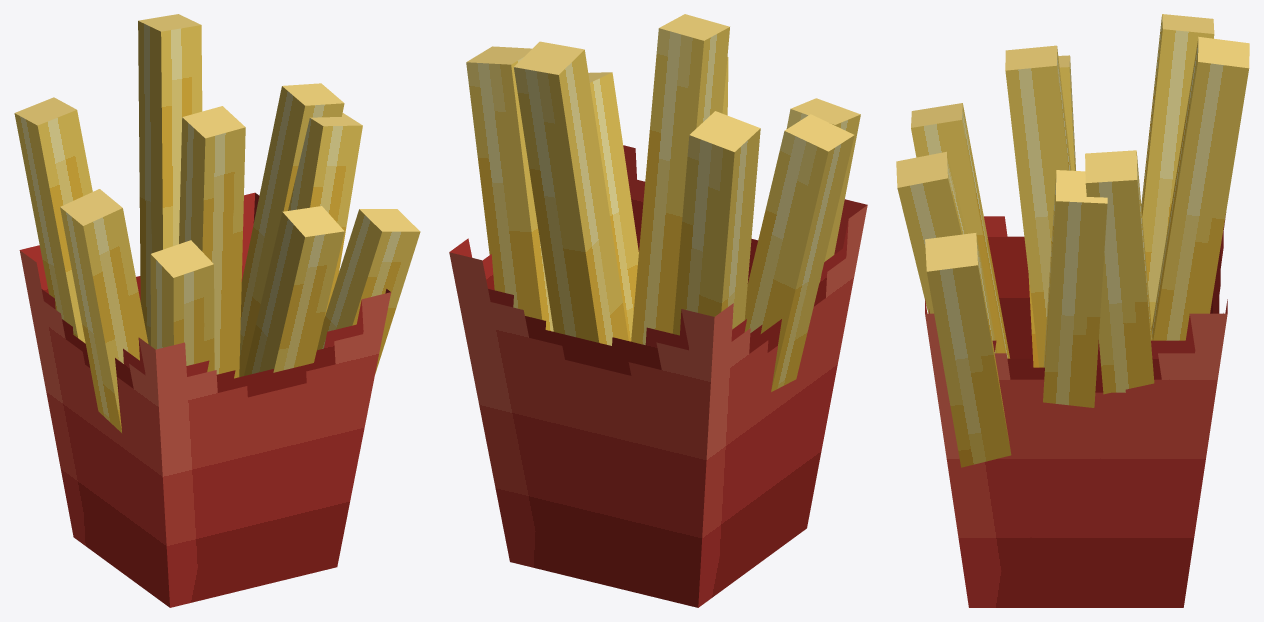
Rendered from meals-fries.glb.
3 views of the same model, side by side, from view 1: azimuth 30°, elevation 25°; view 2: azimuth 150°, elevation 25°; view 3: azimuth 270°, elevation 25° (orthographic). The views are drawn at different scales.
Visible parts, largest first — view 1: meals.fries; view 2: meals.fries; view 3: meals.fries.
Boxes of the visible parts, x1,y1,x2,y2 form: meals.fries: [14, 14, 420, 607]; meals.fries: [449, 14, 867, 607]; meals.fries: [896, 14, 1249, 607].
Bounding box in the file's own units: 1.12 × 1.73 × 1.04.
4 materials, 3 textured.
